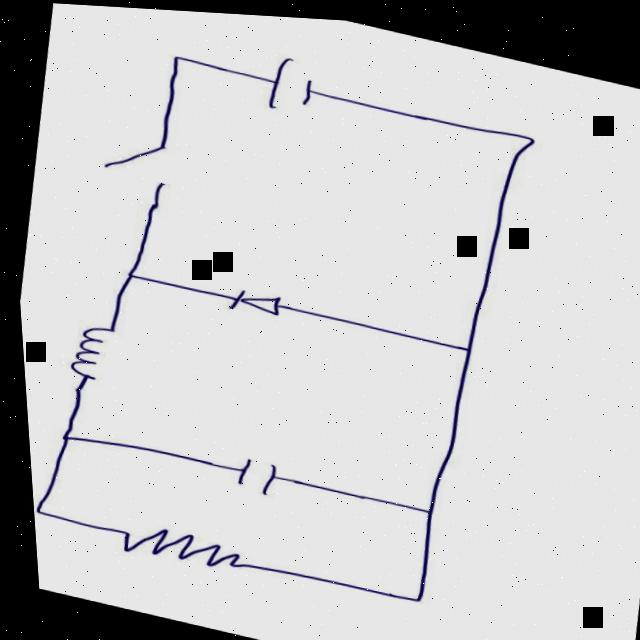capacitor: (208, 439, 294, 503)
diode: (207, 270, 291, 320)
inductor: (41, 299, 134, 395)
resistor: (84, 507, 265, 585)
source: (240, 41, 343, 135)
switch: (74, 112, 211, 223)
